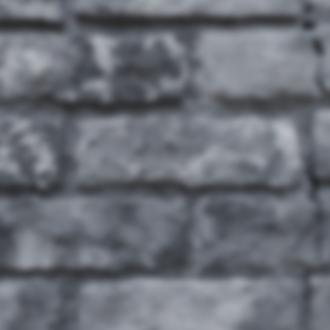brick: (75, 115, 299, 185), (0, 197, 187, 271), (0, 33, 186, 103), (77, 278, 297, 329), (0, 116, 62, 187), (75, 0, 298, 18), (0, 277, 61, 329), (0, 0, 62, 22), (311, 110, 329, 178), (307, 277, 329, 329), (310, 0, 329, 9)
broken_brick: (200, 192, 317, 268), (201, 30, 317, 101), (317, 192, 329, 267), (316, 24, 329, 90)
crack: (298, 2, 329, 327), (84, 2, 138, 17), (242, 280, 258, 293), (289, 281, 295, 286)
